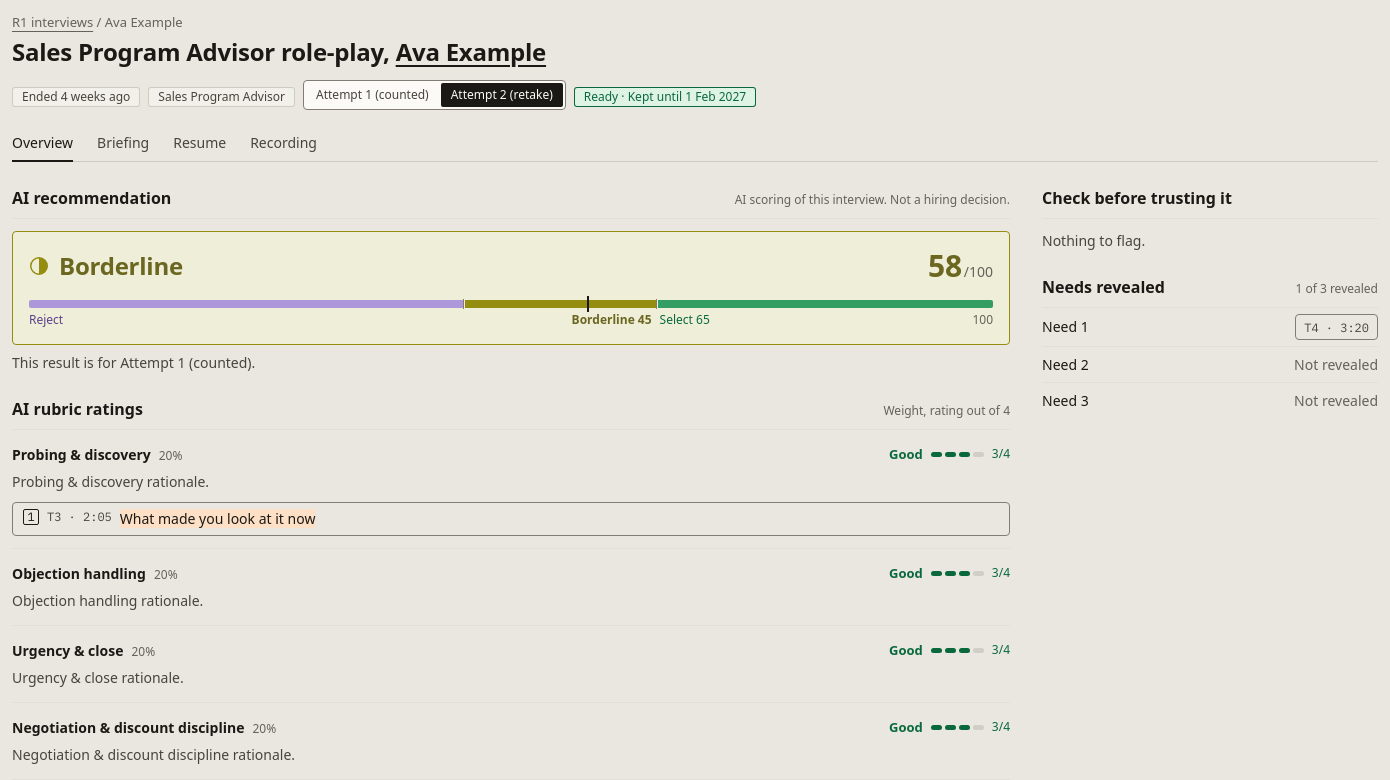
Overview, scored › opens the attempt that was scored, not the one on screen
The image size is (1390, 780).
Expected: the element named "R1 review sections" is shown, [12, 126, 1378, 162]
What coordinates should you click on to do the following:
click the button "1 T3 · 2:05 What made you look at it now"
I would click on:
 (87, 516)
Its box is [12, 502, 1010, 536].
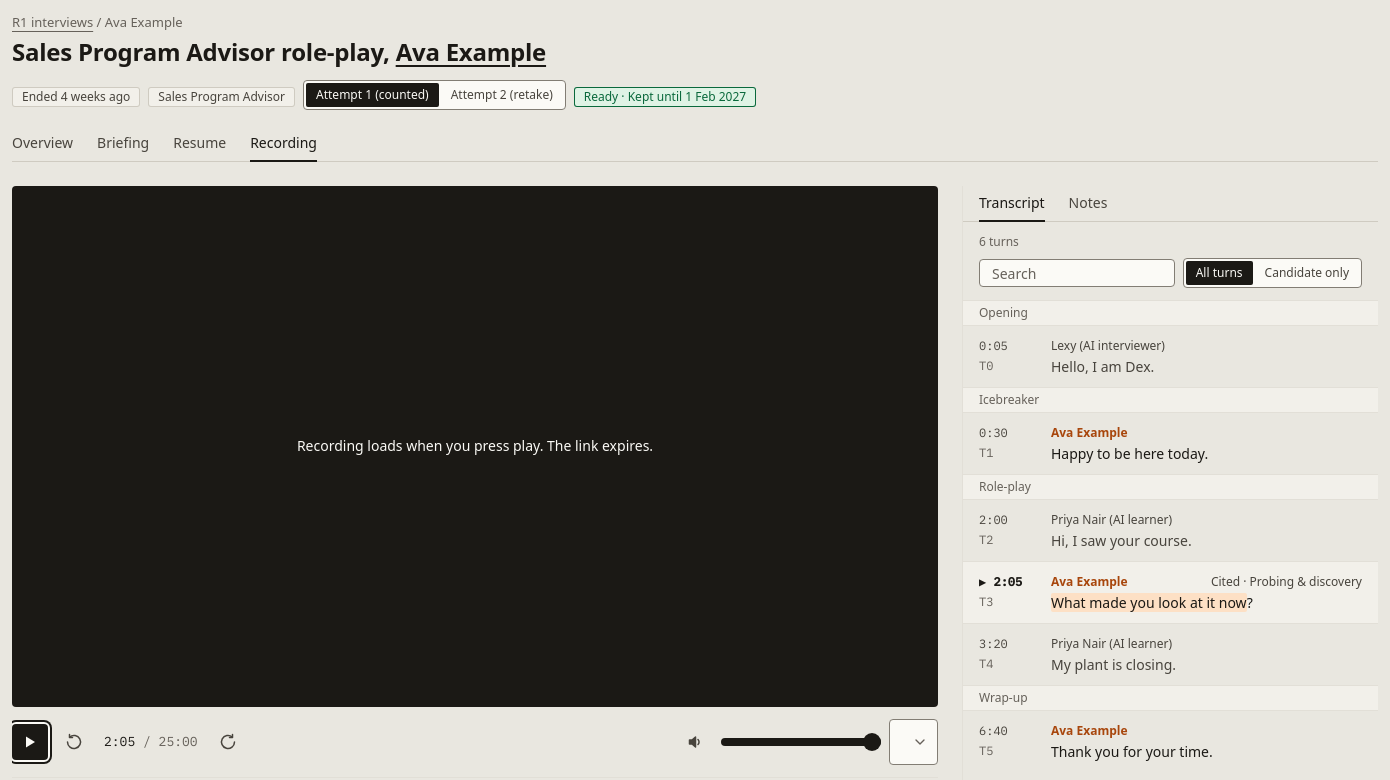
Expected: the text "Hello, I am Dex." is shown, [1051, 357, 1154, 376]
